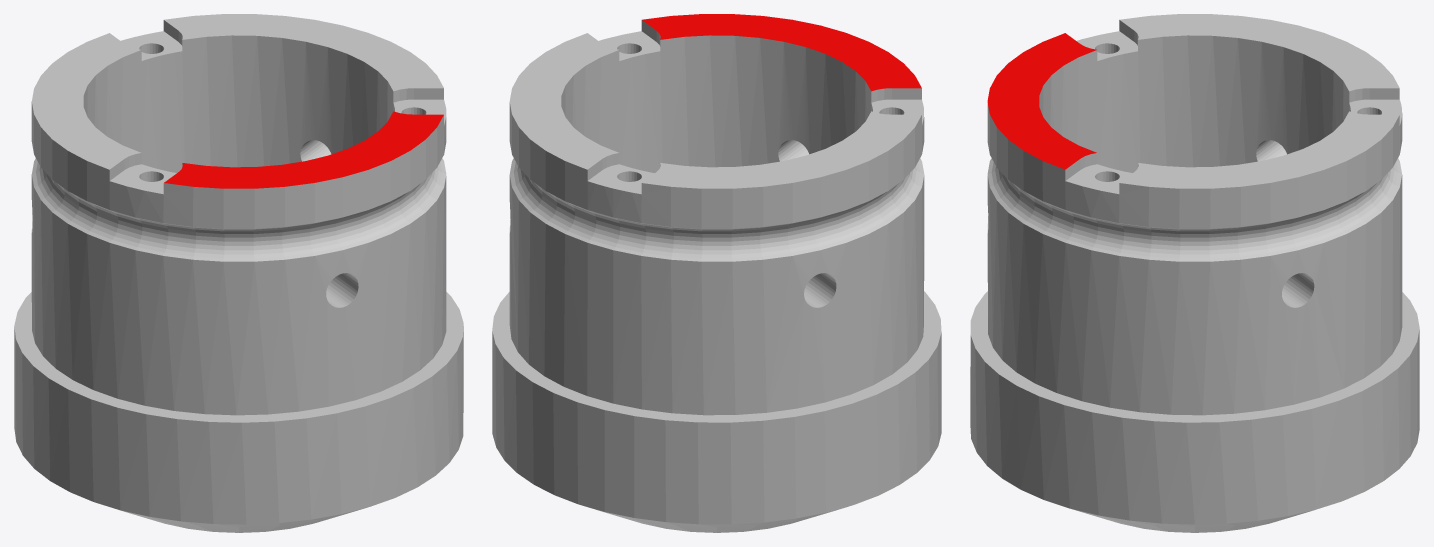
Rendered from case_step_14.obj.
3 views of the same model, side by side, from view 1: azimuth 30°, elevation 25°; view 2: azimuth 150°, elevation 25°; view 3: azimuth 270°, elevation 25° (orthographic).
Visible parts, largest first — view 1: Object1; view 2: Object1; view 3: Object1.
Boxes of the visible parts, box(x1,y1,x2,y2) form: Object1: box(14, 14, 463, 532); Object1: box(492, 14, 941, 532); Object1: box(970, 14, 1419, 532).
Bounding box in the file's own units: 35.99 × 33 × 35.98.
